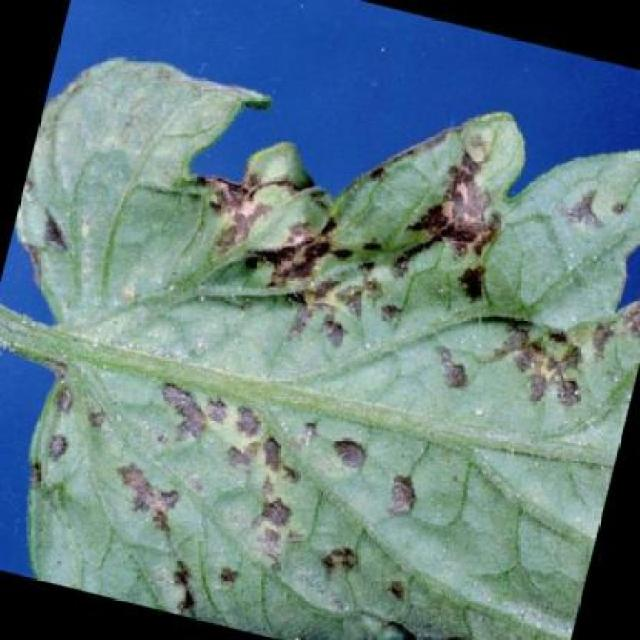Tomato leaf bacterial spot: (1, 16, 639, 639)
